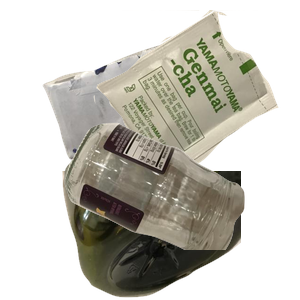glass: (62, 120, 300, 300)
paper: (40, 35, 249, 187)
plastic: (60, 171, 300, 300)
trash: (91, 10, 300, 186)
